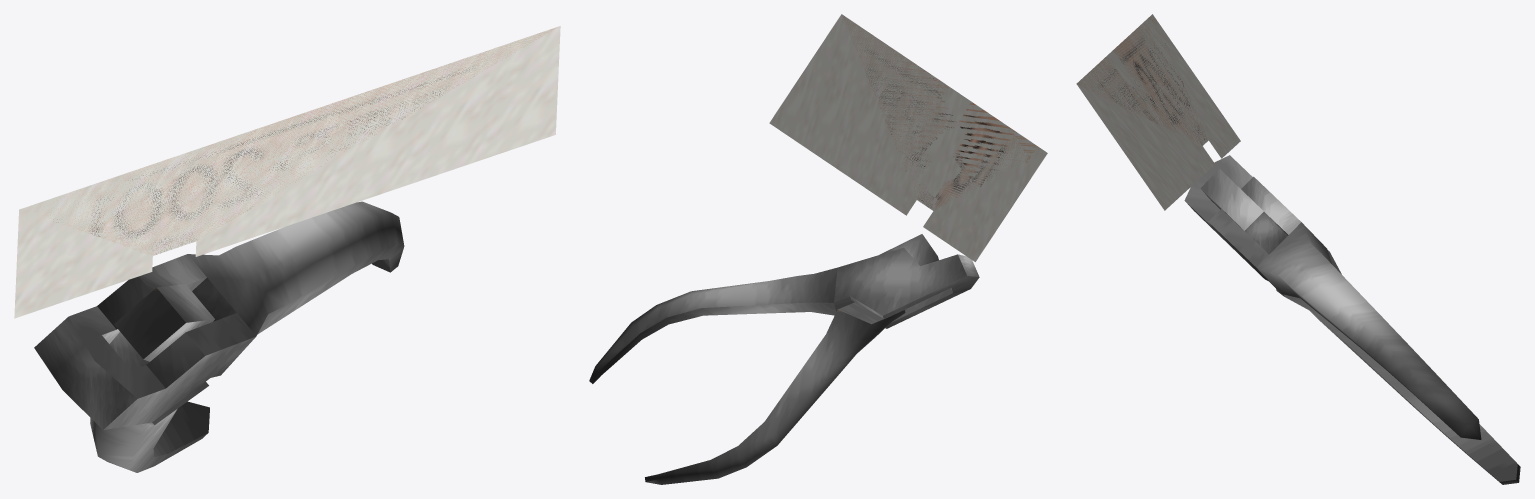
The model's file is a2001icon.ico.obj.
The picture shows the model from 3 angles, left to right: view 1: azimuth 30°, elevation 25°; view 2: azimuth 150°, elevation 25°; view 3: azimuth 270°, elevation 25°; orthographic projection. The views are drawn at different scales.
Size of the model in its own units: 4.65 by 4.71 by 4.73.
Materials: 1 (1 with a texture image).
